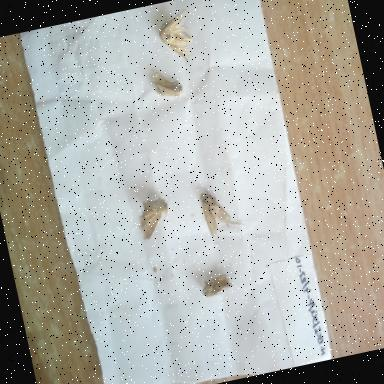abw: (194, 181, 250, 242), (150, 4, 201, 70), (128, 182, 181, 244), (190, 260, 238, 310), (144, 65, 188, 113)
